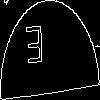E: (25, 25, 45, 74)
